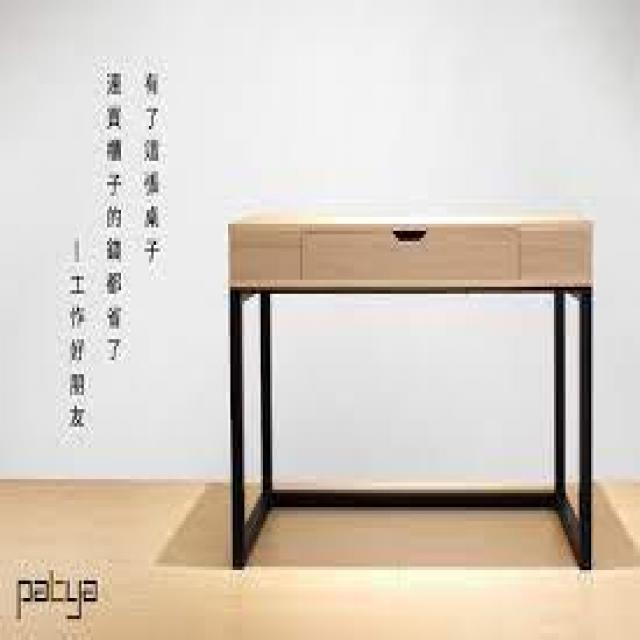table: (191, 159, 607, 582)
